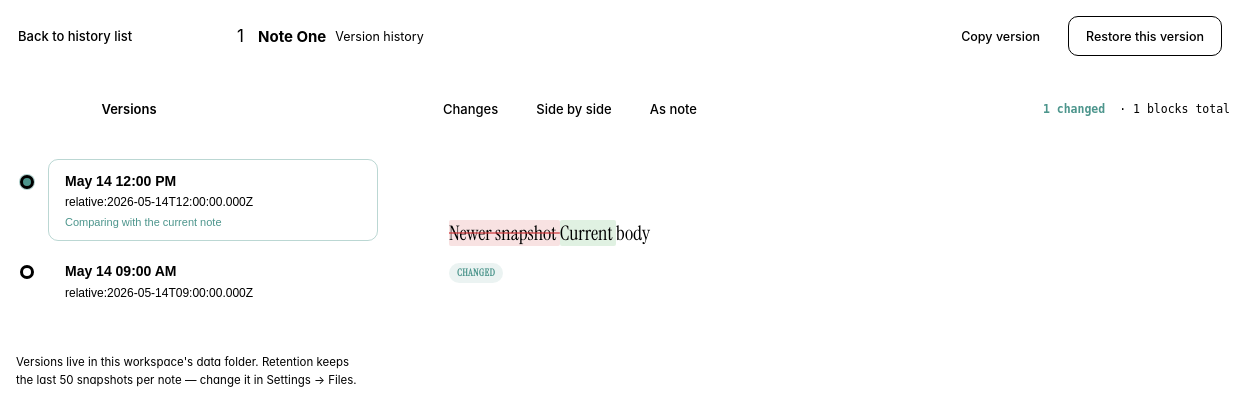
Scenario: HistoryView › stays in history and exposes an error when copying the selected snapshot fails
Click the button with class "history-top-bar__copy" at (1001, 36), box left=943, top=16, right=1058, bottom=56
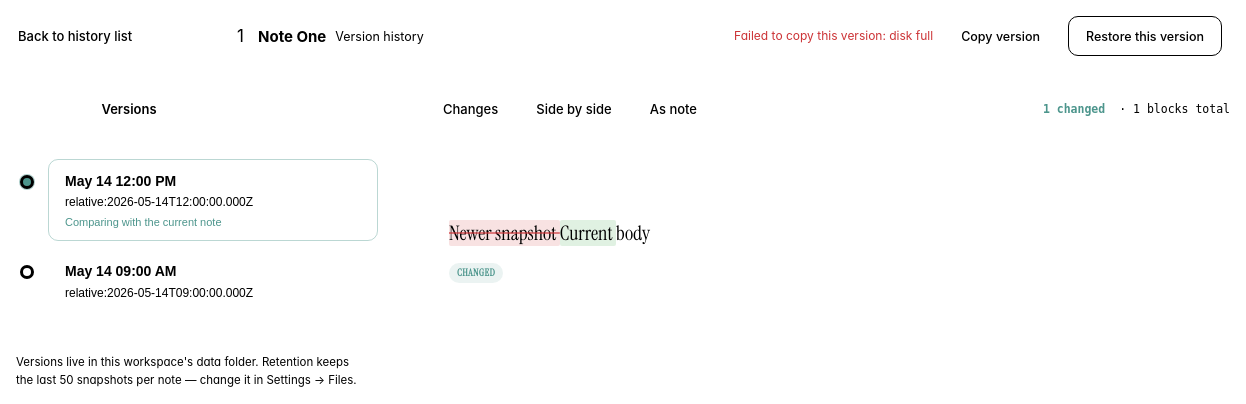
Result: the message with class "history-top-bar__error" shows "disk full" at left=734, top=28, right=933, bottom=43
